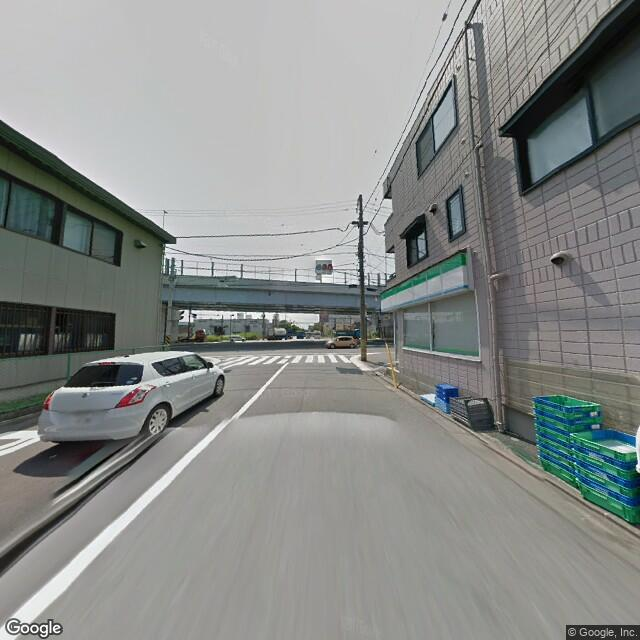family_mart: (380, 245, 469, 314)
